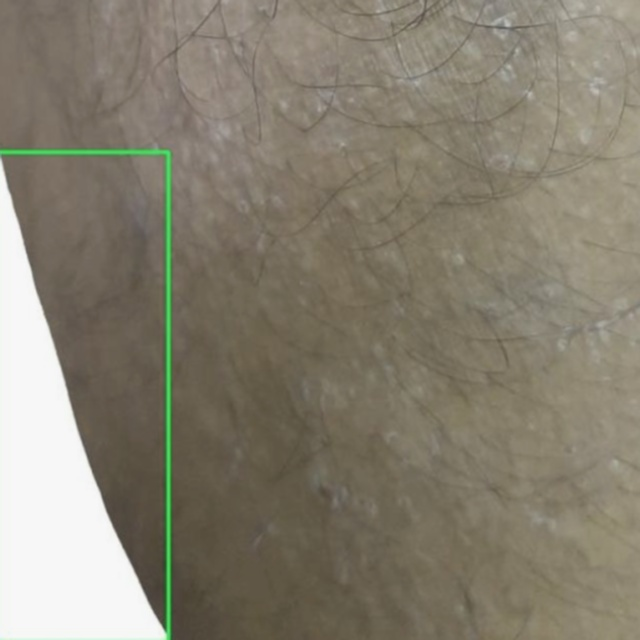Contact Dermatitis: (0, 151, 169, 639)
